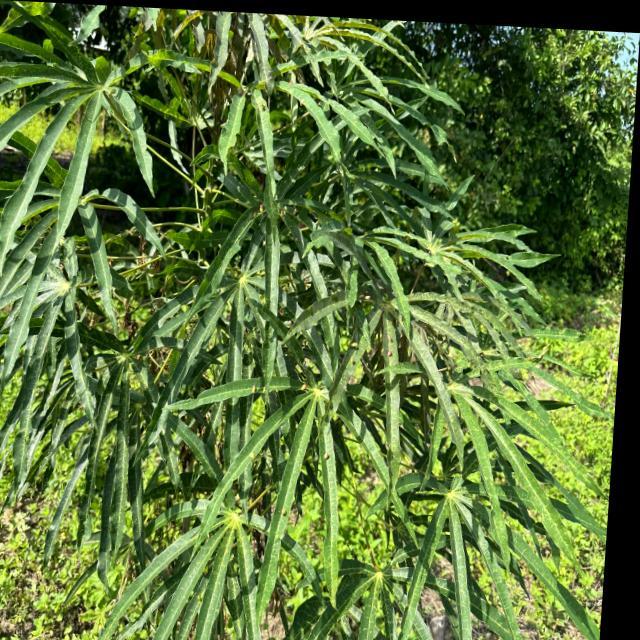Maleza: (489, 33, 626, 220), (560, 203, 627, 398)
Mosca: (192, 587, 212, 609), (382, 344, 400, 364), (275, 506, 292, 521), (249, 385, 264, 402), (253, 99, 270, 114), (346, 335, 361, 351), (222, 296, 235, 313), (350, 356, 363, 372), (316, 448, 334, 459), (296, 377, 309, 392), (384, 335, 396, 345)
